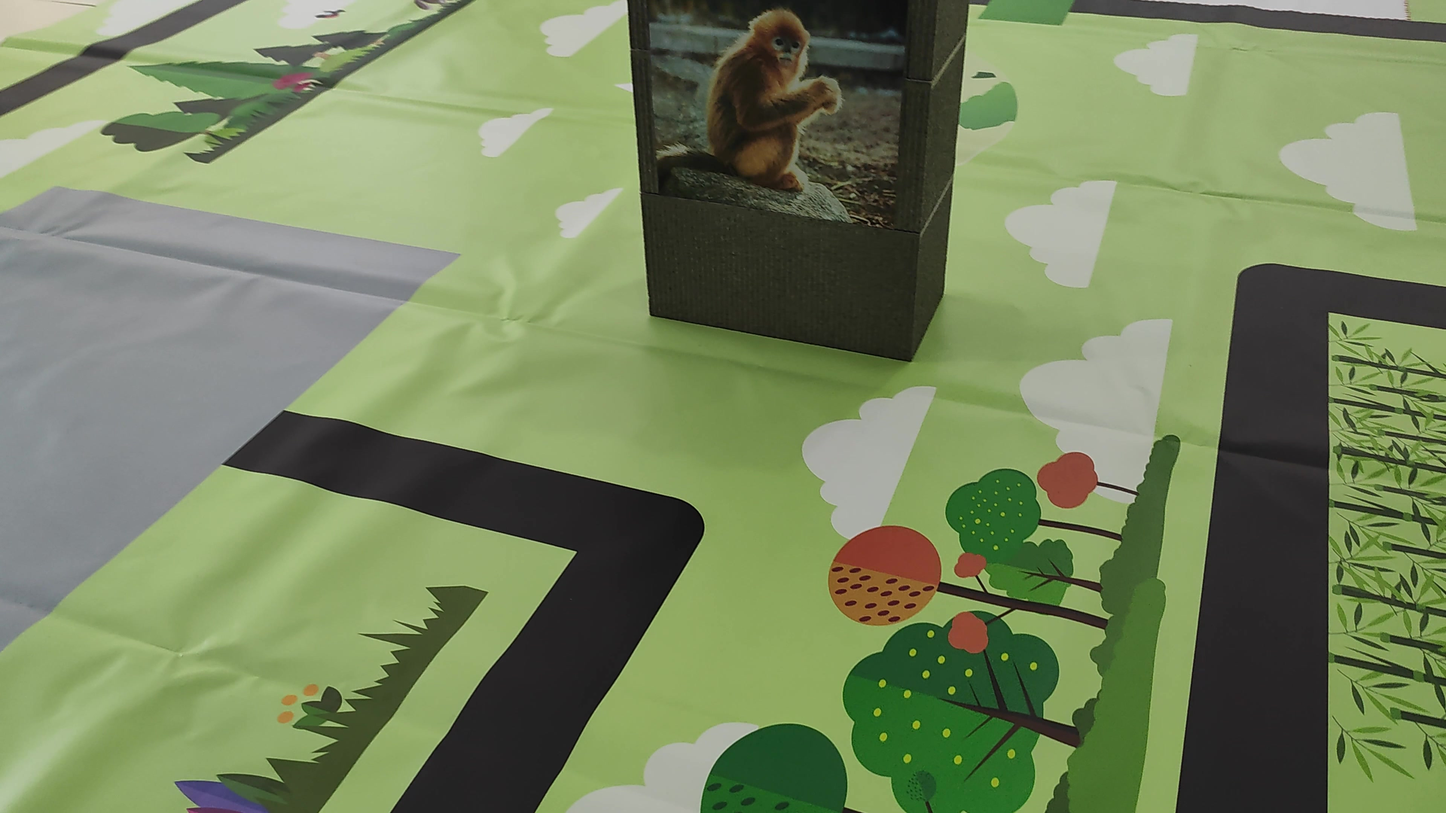monkey: (656, 0, 907, 195)
